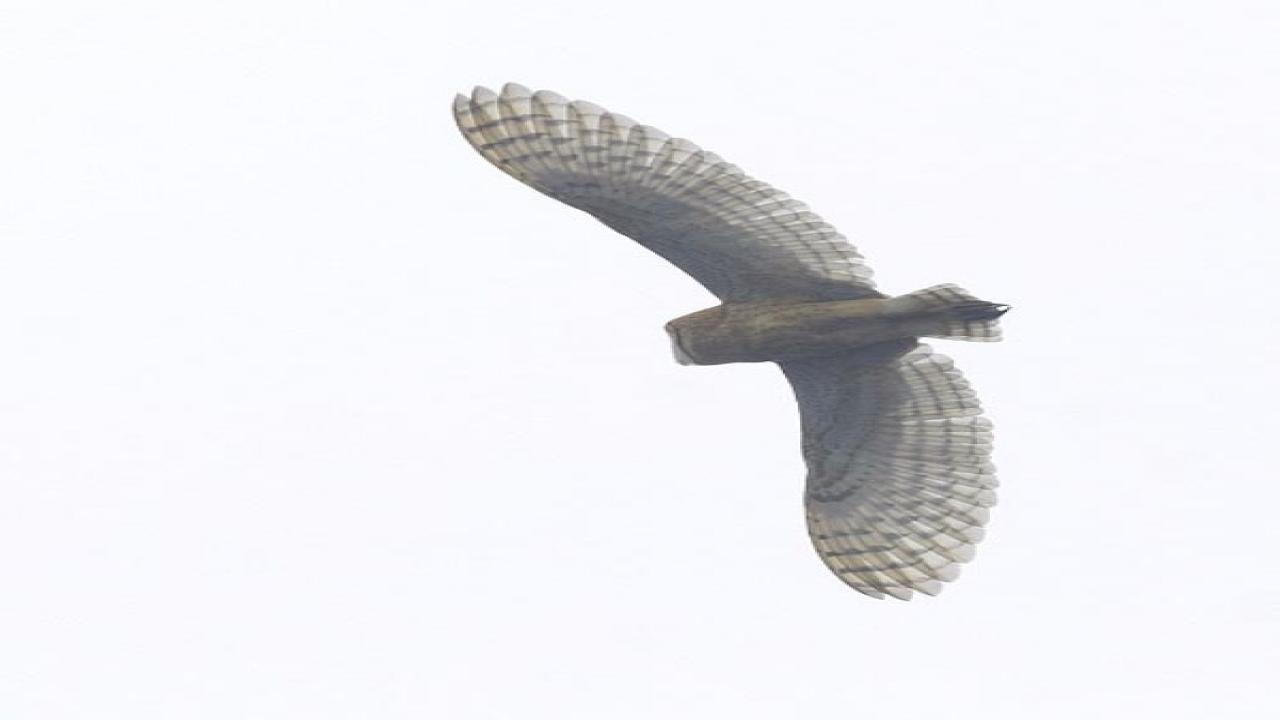Bird: (435, 66, 1036, 614)
